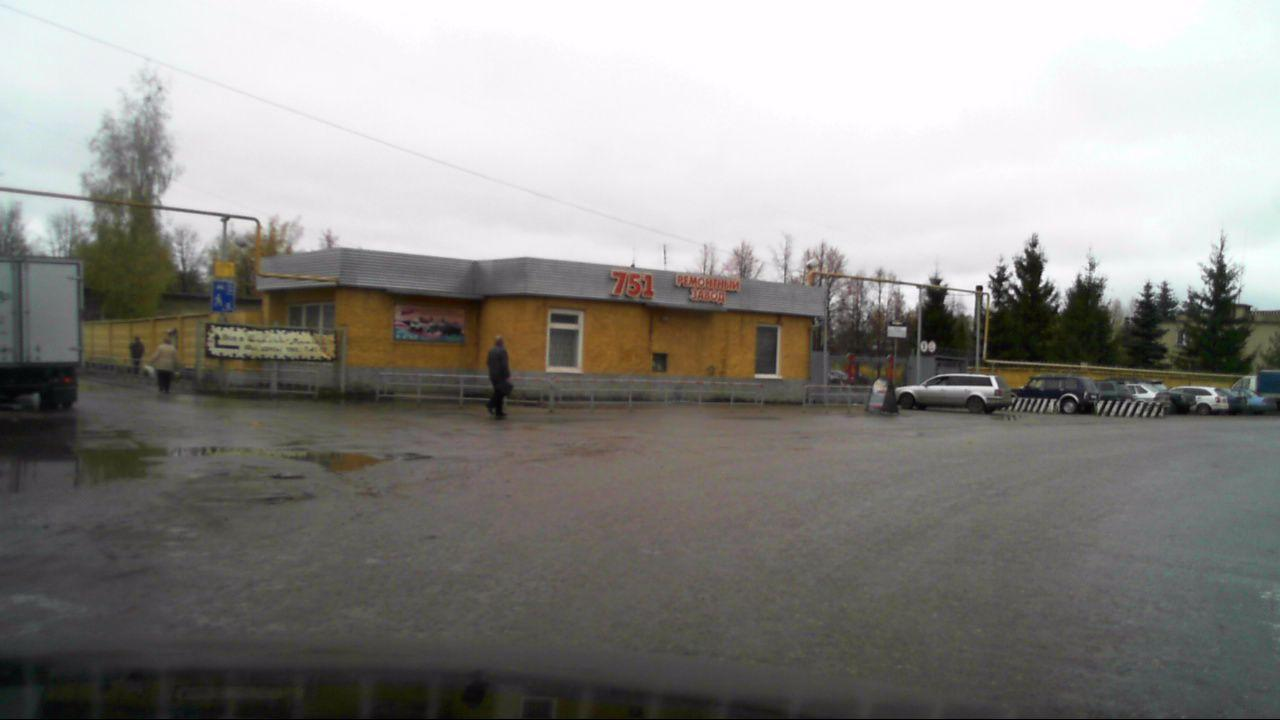5_21: (213, 281, 232, 314)
